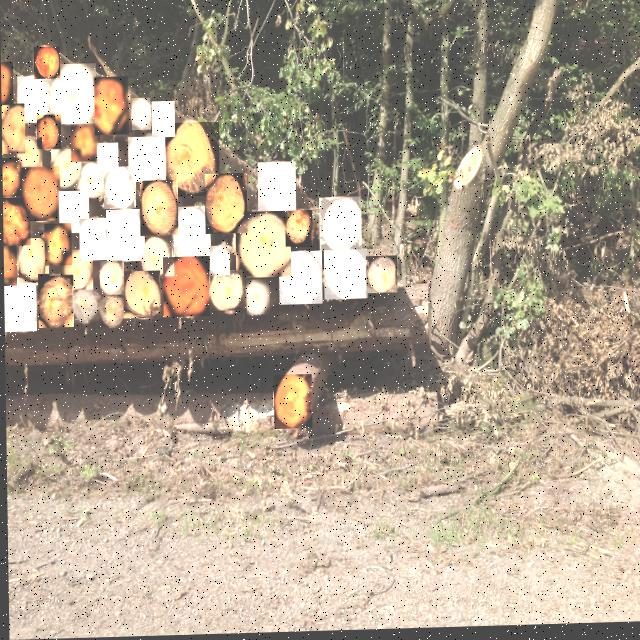wood-log: (165, 123, 219, 199), (235, 212, 290, 280), (162, 257, 209, 318), (49, 64, 96, 125), (204, 175, 247, 236), (278, 253, 322, 307), (318, 199, 361, 253), (19, 167, 60, 222), (323, 251, 367, 302), (139, 181, 178, 237), (272, 376, 311, 431), (105, 210, 144, 263), (94, 77, 129, 136), (170, 207, 210, 258), (257, 163, 296, 213), (37, 275, 73, 328), (122, 271, 160, 319), (3, 277, 36, 332), (128, 137, 165, 183), (17, 76, 51, 124), (139, 236, 174, 278), (209, 272, 242, 315), (18, 238, 48, 285), (103, 167, 135, 210), (2, 197, 30, 246), (58, 191, 89, 234), (61, 250, 92, 291), (51, 149, 81, 190), (365, 258, 397, 296), (70, 122, 100, 162), (1, 104, 25, 154), (79, 219, 107, 261), (44, 223, 71, 266), (285, 212, 312, 251), (78, 162, 105, 199), (71, 286, 98, 323), (151, 102, 175, 138), (17, 138, 42, 172), (36, 115, 61, 149), (99, 261, 123, 296), (245, 281, 269, 316), (34, 47, 60, 79), (99, 295, 124, 328), (2, 158, 21, 197), (131, 99, 151, 131), (209, 247, 230, 277), (97, 143, 118, 172), (3, 246, 16, 286), (1, 62, 13, 105)
